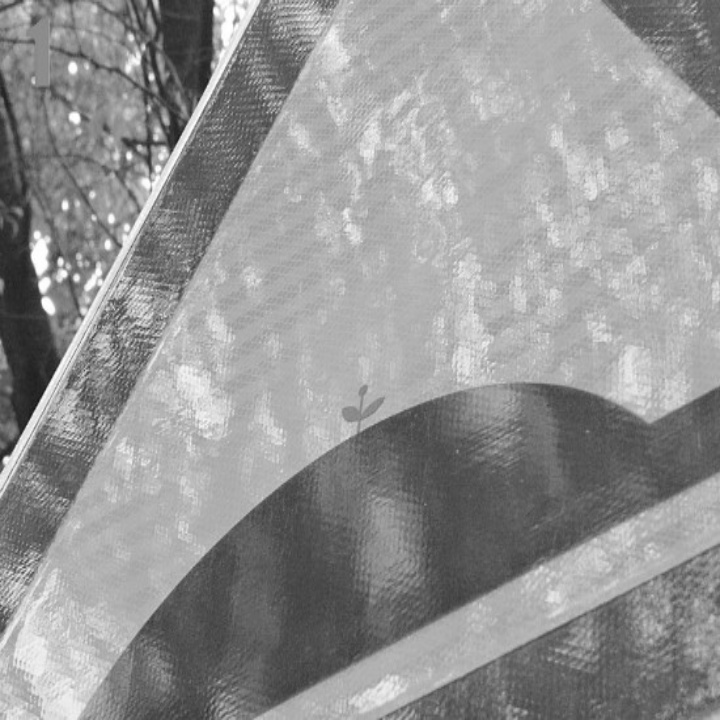bump: (46, 319, 720, 720)
